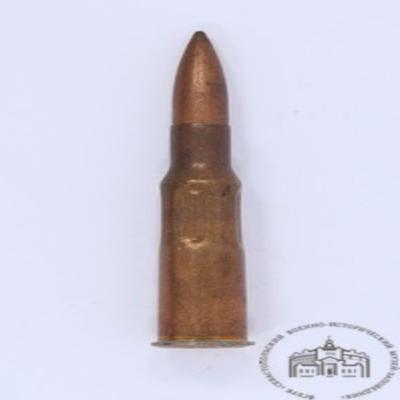weapon: (152, 31, 252, 349)
